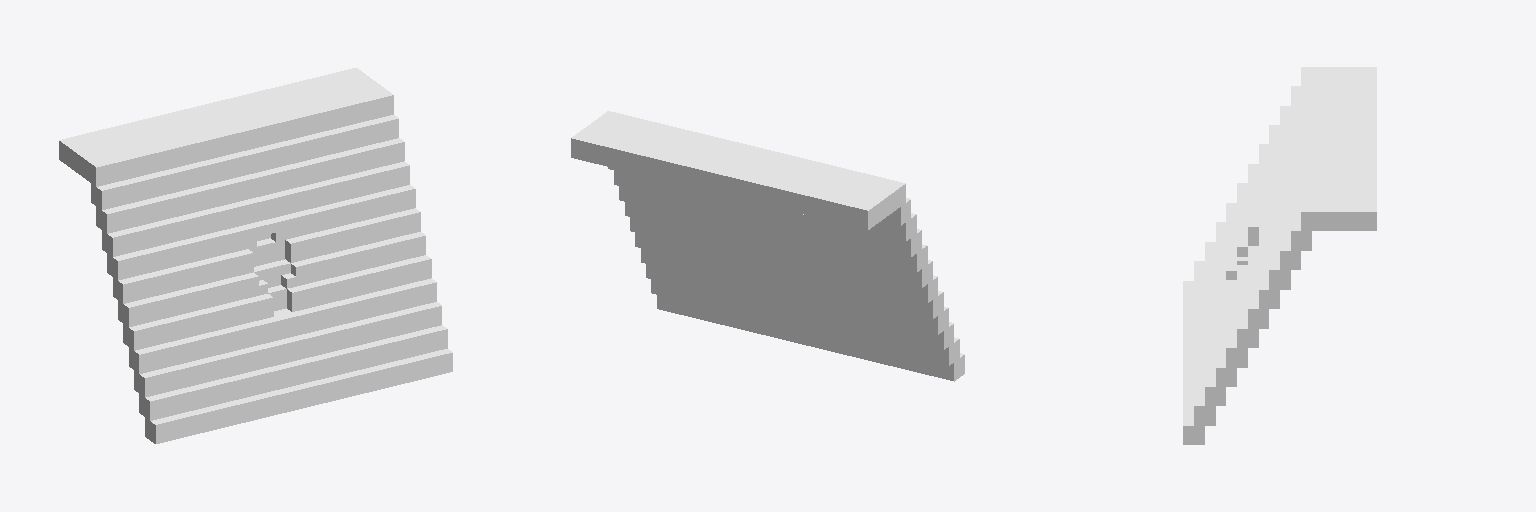
Rendered from LockedDoorV2.obj.
The picture shows the model from 3 angles: view 1: azimuth 30°, elevation 25°; view 2: azimuth 150°, elevation 25°; view 3: azimuth 270°, elevation 25°; orthographic projection.
Parts seen in each view (by area): view 1: object 1; view 2: object 1; view 3: object 1.
Part boxes in pixels (left/top/right/bottom): object 1: left=59, top=68, right=452, bottom=443; object 1: left=571, top=111, right=964, bottom=381; object 1: left=1183, top=67, right=1376, bottom=444.
Size of the model in its own units: 3.2 by 2.4 by 1.8.